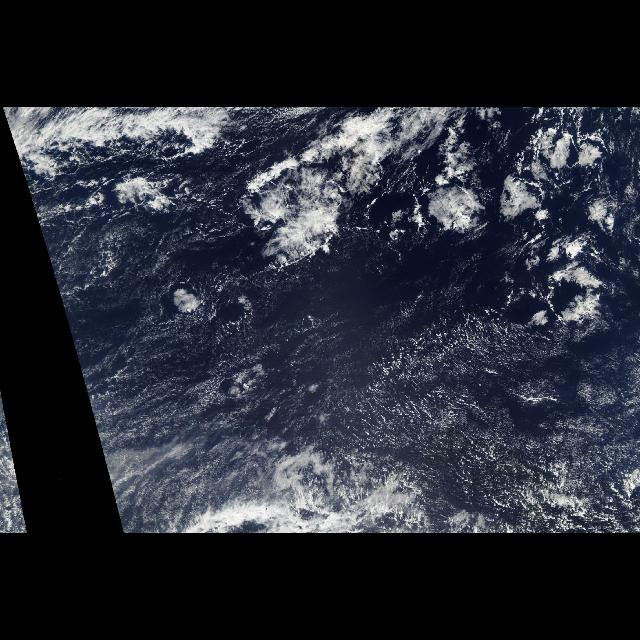Flower: (422, 120, 634, 334)
Gravel: (416, 113, 632, 351), (363, 353, 624, 523), (22, 131, 246, 223)
Sugar: (97, 272, 639, 524)
